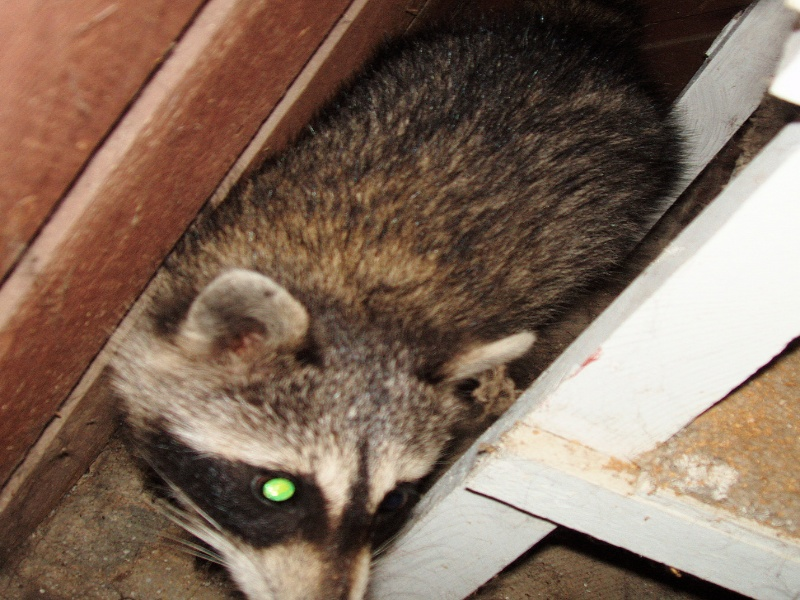raccoon: (102, 6, 685, 598)
